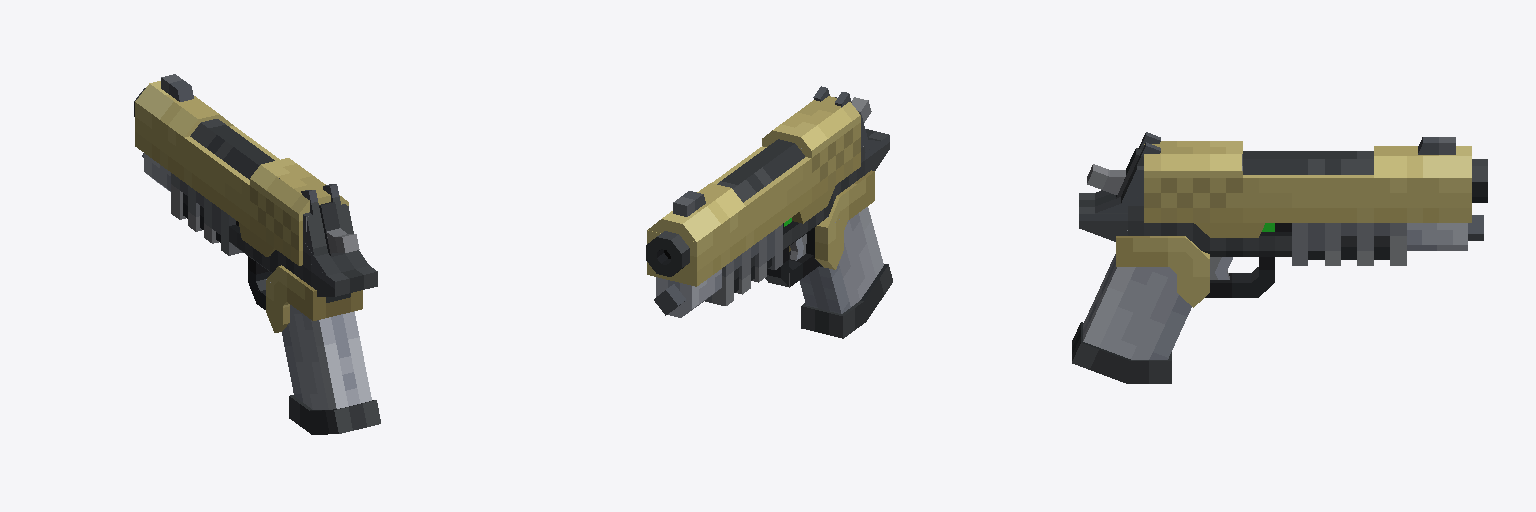
The picture shows the model from 3 angles: view 1: azimuth 30°, elevation 25°; view 2: azimuth 150°, elevation 25°; view 3: azimuth 270°, elevation 25°; orthographic projection.
Visible parts, largest first — view 1: 0aab2a4f-88f3-bed7-5c1b-27936c7bb0ed; view 2: 0aab2a4f-88f3-bed7-5c1b-27936c7bb0ed; view 3: 0aab2a4f-88f3-bed7-5c1b-27936c7bb0ed.
Boxes of the visible parts, <box> form: 0aab2a4f-88f3-bed7-5c1b-27936c7bb0ed: <box>134,74,380,434</box>; 0aab2a4f-88f3-bed7-5c1b-27936c7bb0ed: <box>646,86,892,338</box>; 0aab2a4f-88f3-bed7-5c1b-27936c7bb0ed: <box>1072,132,1487,383</box>.
Size of the model in its own units: 3.5 by 15.79 by 25.44.
1 materials, 1 textured.